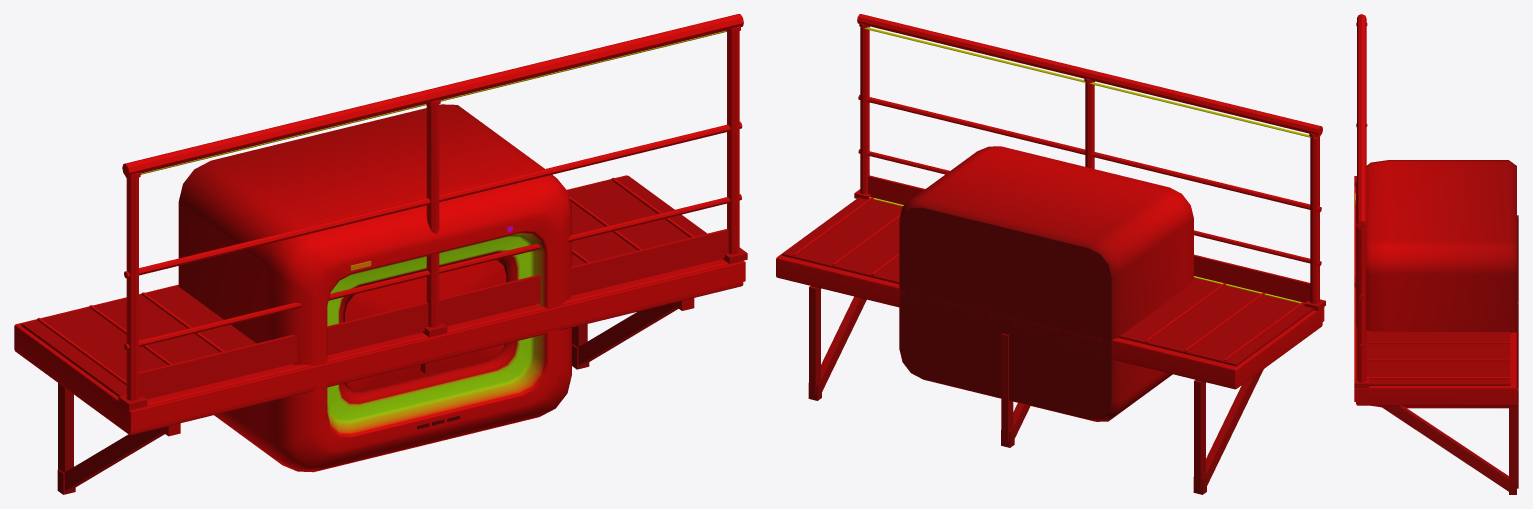
The picture shows the model from 3 angles, left to right: view 1: azimuth 30°, elevation 25°; view 2: azimuth 150°, elevation 25°; view 3: azimuth 270°, elevation 25°; orthographic projection. The views are drawn at different scales.
Parts seen in each view (by area): view 1: walk341, pod341, hatch341; view 2: pod341, walk341; view 3: pod341, walk341.
Part boxes in pixels (box(x1,y1,x2,y2)): walk341: box(14, 14, 747, 494); pod341: box(178, 104, 571, 472); hatch341: box(345, 260, 506, 391); pod341: box(899, 146, 1193, 421); walk341: box(776, 14, 1325, 494); pod341: box(1355, 160, 1516, 408); walk341: box(1354, 14, 1518, 494).
Bounding box in the file's own units: 3.06 × 1.98 × 1.02.
